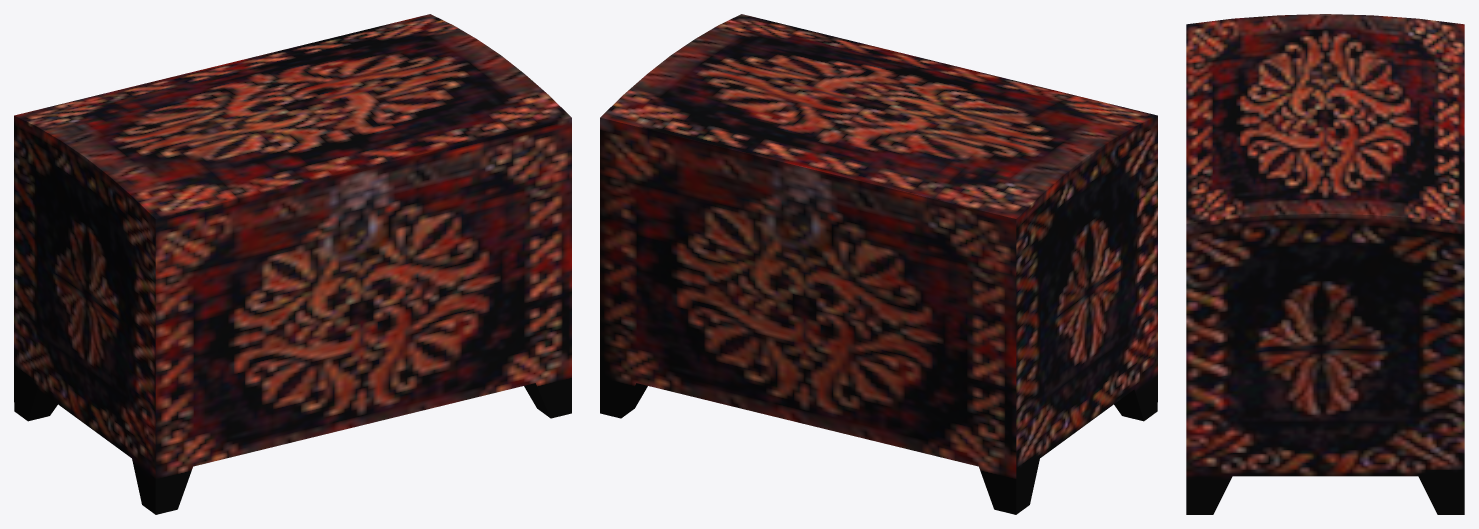
Rendered from ItemBox.fbx.
The picture shows the model from 3 angles, left to right: view 1: azimuth 30°, elevation 25°; view 2: azimuth 150°, elevation 25°; view 3: azimuth 270°, elevation 25°; orthographic projection.
Parts seen in each view (by area): view 1: pCube1; view 2: pCube1; view 3: pCube1.
Part boxes in pixels (x1=…): pCube1: x1=14, y1=14, x2=571, y2=514; pCube1: x1=600, y1=14, x2=1157, y2=514; pCube1: x1=1186, y1=14, x2=1464, y2=514.
Bounding box in the file's own units: 1.7 × 1.19 × 1.
